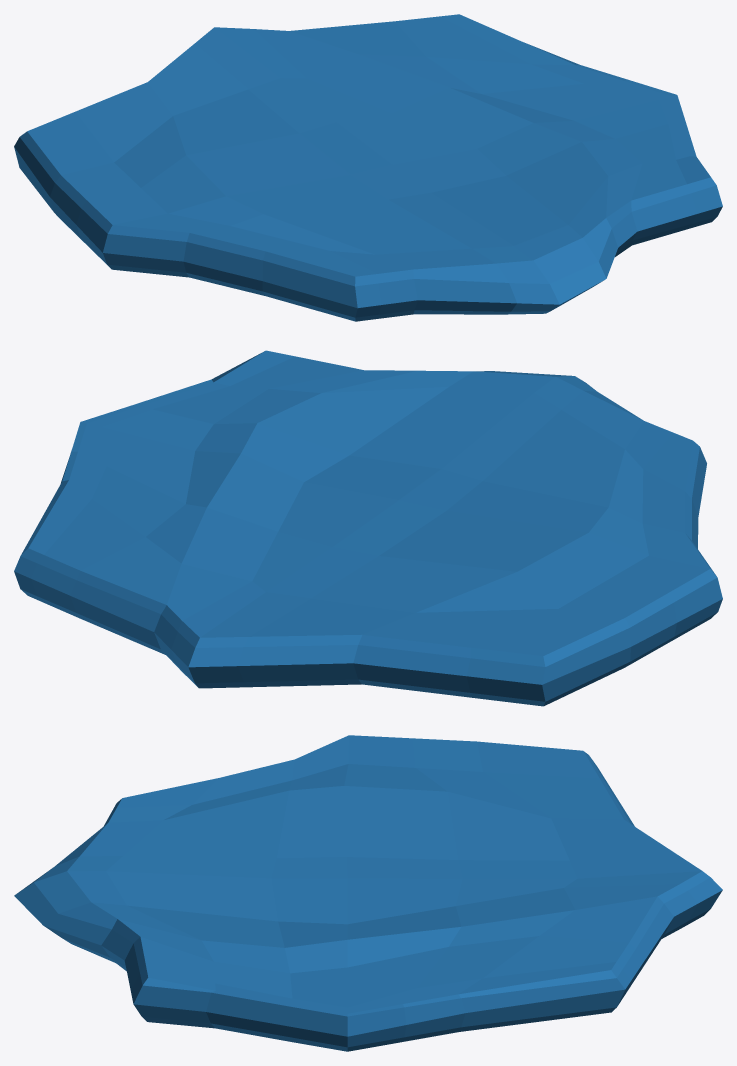
File: Ice2.fbx
3 views of the same model, one above another, from view 1: azimuth 30°, elevation 25°; view 2: azimuth 150°, elevation 25°; view 3: azimuth 270°, elevation 25° (orthographic). The views are drawn at different scales.
Visible parts, largest first — view 1: Ice_ITA1:Ita_Ice1; view 2: Ice_ITA1:Ita_Ice1; view 3: Ice_ITA1:Ita_Ice1.
Part boxes in pixels (left/top/right/bottom): Ice_ITA1:Ita_Ice1: left=14, top=14, right=722, bottom=321; Ice_ITA1:Ita_Ice1: left=14, top=350, right=722, bottom=706; Ice_ITA1:Ita_Ice1: left=14, top=735, right=722, bottom=1051.
Bounding box in the file's own units: 7.84 × 0.7319 × 8.33.
